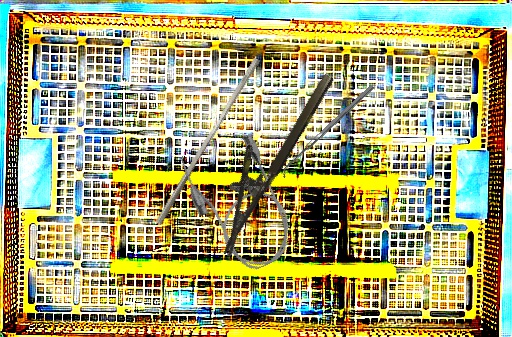Cannula: (173, 125, 305, 283)
Needle Holder: (193, 58, 337, 258)
Pusher: (154, 53, 262, 230)
Spatula Surgical: (278, 84, 378, 179)
